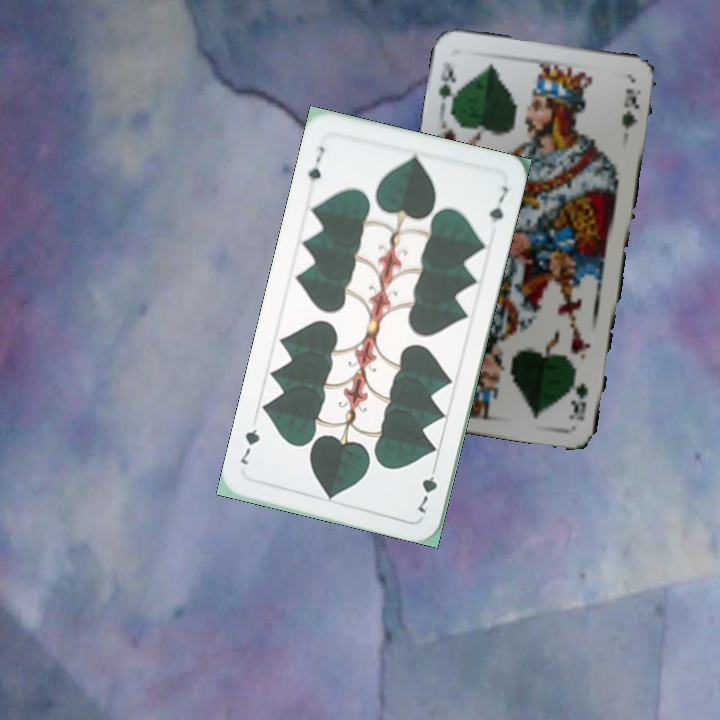G7: (413, 459, 440, 516), (303, 142, 327, 185)
GK: (434, 58, 460, 111), (569, 379, 591, 423)
